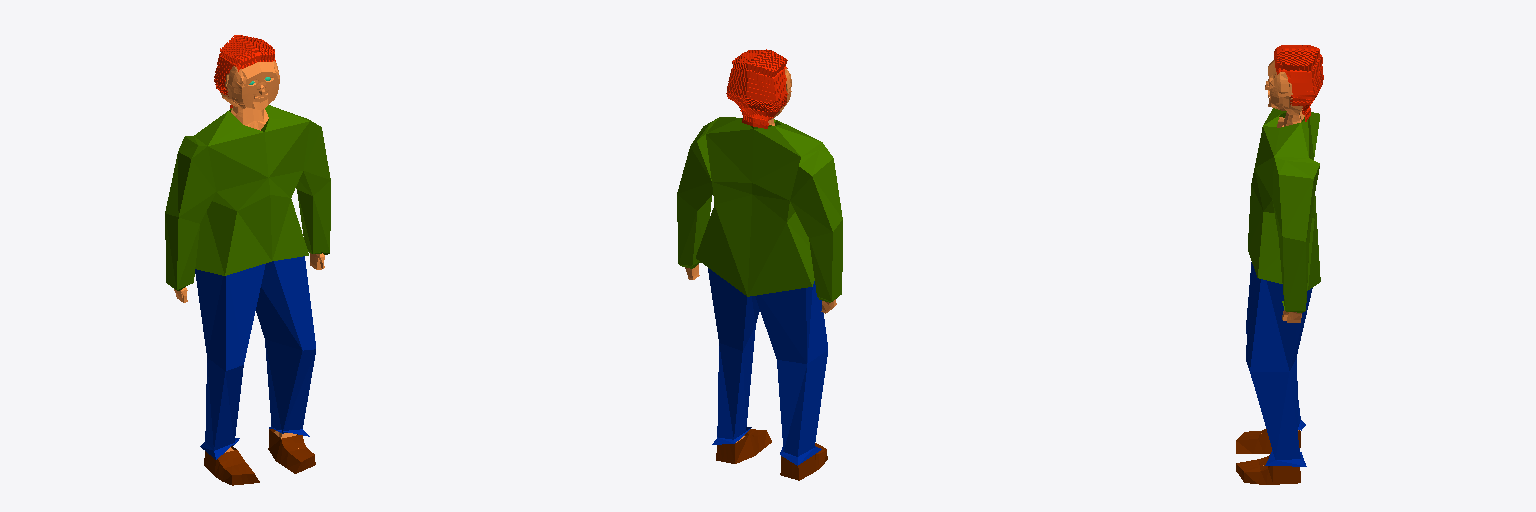
Rendered from Avatar.obj.
3 views of the same model, side by side, from view 1: azimuth 30°, elevation 25°; view 2: azimuth 150°, elevation 25°; view 3: azimuth 270°, elevation 25° (orthographic).
Visible parts, largest first — view 1: Oberteil_Cube.003, Hose_Cube.001, Koerper_Cube, Schuhe_Cube.002, Haar_Cube.004; view 2: Oberteil_Cube.003, Hose_Cube.001, Haar_Cube.004, Schuhe_Cube.002; view 3: Oberteil_Cube.003, Hose_Cube.001, Haar_Cube.004, Schuhe_Cube.002, Koerper_Cube.
Boxes of the visible parts, <box> form: Oberteil_Cube.003: <box>165,105,330,290</box>; Hose_Cube.001: <box>195,256,315,459</box>; Koerper_Cube: <box>174,61,324,452</box>; Schuhe_Cube.002: <box>204,429,315,485</box>; Haar_Cube.004: <box>214,35,275,108</box>; Oberteil_Cube.003: <box>677,117,842,302</box>; Hose_Cube.001: <box>708,268,827,465</box>; Haar_Cube.004: <box>726,49,787,128</box>; Schuhe_Cube.002: <box>716,429,827,480</box>; Oberteil_Cube.003: <box>1248,108,1320,312</box>; Hose_Cube.001: <box>1246,262,1312,466</box>; Haar_Cube.004: <box>1274,45,1323,121</box>; Schuhe_Cube.002: <box>1236,429,1300,484</box>; Koerper_Cube: <box>1261,60,1304,465</box>.
Size of the model in its own units: 3.05 by 7.73 by 1.49.